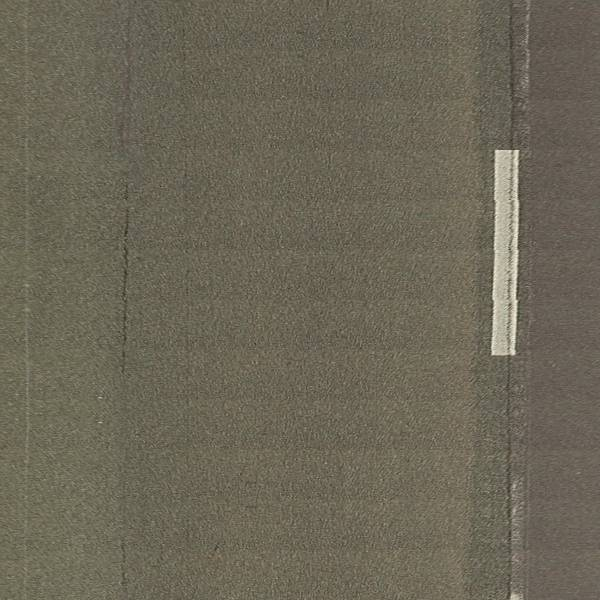road_damage: (109, 14, 139, 600), (501, 3, 520, 600)
